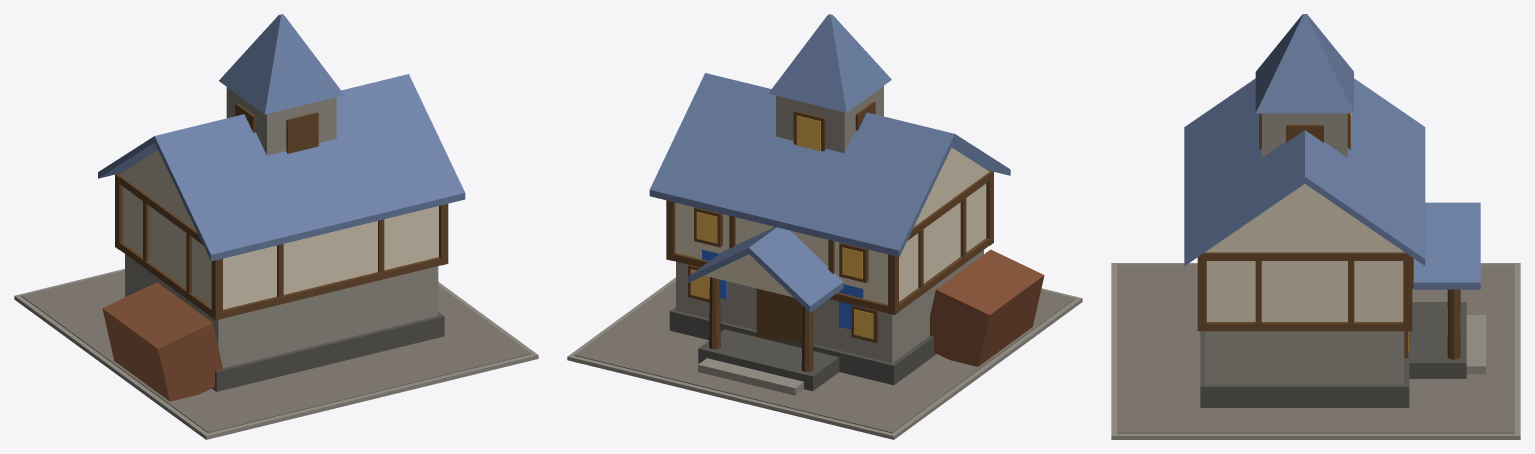
File: TownCenter.obj
The picture shows the model from 3 angles, left to right: view 1: azimuth 30°, elevation 25°; view 2: azimuth 150°, elevation 25°; view 3: azimuth 270°, elevation 25°; orthographic projection. The views are drawn at different scales.
Visible parts, largest first — view 1: TownCenter_roof_team, TownCenter_stone, TownCenter_cobble, TownCenter_plaster, TownCenter_roof_cedar, TownCenter_timber, TownCenter_dark_stone; view 2: TownCenter_roof_team, TownCenter_stone, TownCenter_cobble, TownCenter_plaster, TownCenter_timber, TownCenter_roof_cedar, TownCenter_dark_stone, TownCenter_window_glow, TownCenter_banner_team; view 3: TownCenter_roof_team, TownCenter_cobble, TownCenter_stone, TownCenter_plaster, TownCenter_dark_stone, TownCenter_timber.
Boxes of the visible parts, x1=… form: TownCenter_roof_team: x1=98, y1=14, x2=465, y2=261; TownCenter_stone: x1=14, y1=87, x2=538, y2=439; TownCenter_cobble: x1=21, y1=270, x2=531, y2=432; TownCenter_plaster: x1=119, y1=150, x2=438, y2=309; TownCenter_roof_cedar: x1=102, y1=282, x2=223, y2=401; TownCenter_timber: x1=115, y1=103, x2=448, y2=320; TownCenter_dark_stone: x1=212, y1=312, x2=444, y2=391; TownCenter_roof_team: x1=649, y1=14, x2=1010, y2=312; TownCenter_stone: x1=567, y1=86, x2=1082, y2=439; TownCenter_cobble: x1=574, y1=281, x2=1075, y2=433; TownCenter_plaster: x1=675, y1=147, x2=989, y2=304; TownCenter_timber: x1=666, y1=101, x2=993, y2=371; TownCenter_roof_cedar: x1=930, y1=249, x2=1044, y2=366; TownCenter_dark_stone: x1=669, y1=307, x2=936, y2=391; TownCenter_window_glow: x1=690, y1=115, x2=873, y2=339; TownCenter_banner_team: x1=702, y1=249, x2=863, y2=329; TownCenter_roof_team: x1=1184, y1=14, x2=1480, y2=289; TownCenter_cobble: x1=1117, y1=264, x2=1514, y2=433; TownCenter_stone: x1=1111, y1=113, x2=1520, y2=439; TownCenter_plaster: x1=1205, y1=184, x2=1404, y2=321; TownCenter_dark_stone: x1=1200, y1=302, x2=1466, y2=407; TownCenter_timber: x1=1197, y1=113, x2=1460, y2=359.
Bounding box in the file's own units: 7.5 × 6.8 × 7.4.
